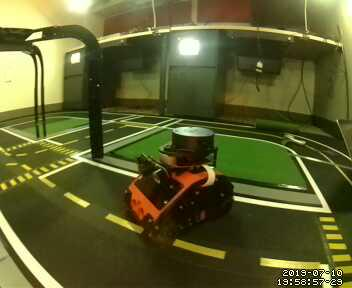pheeno: (123, 124, 236, 249)
